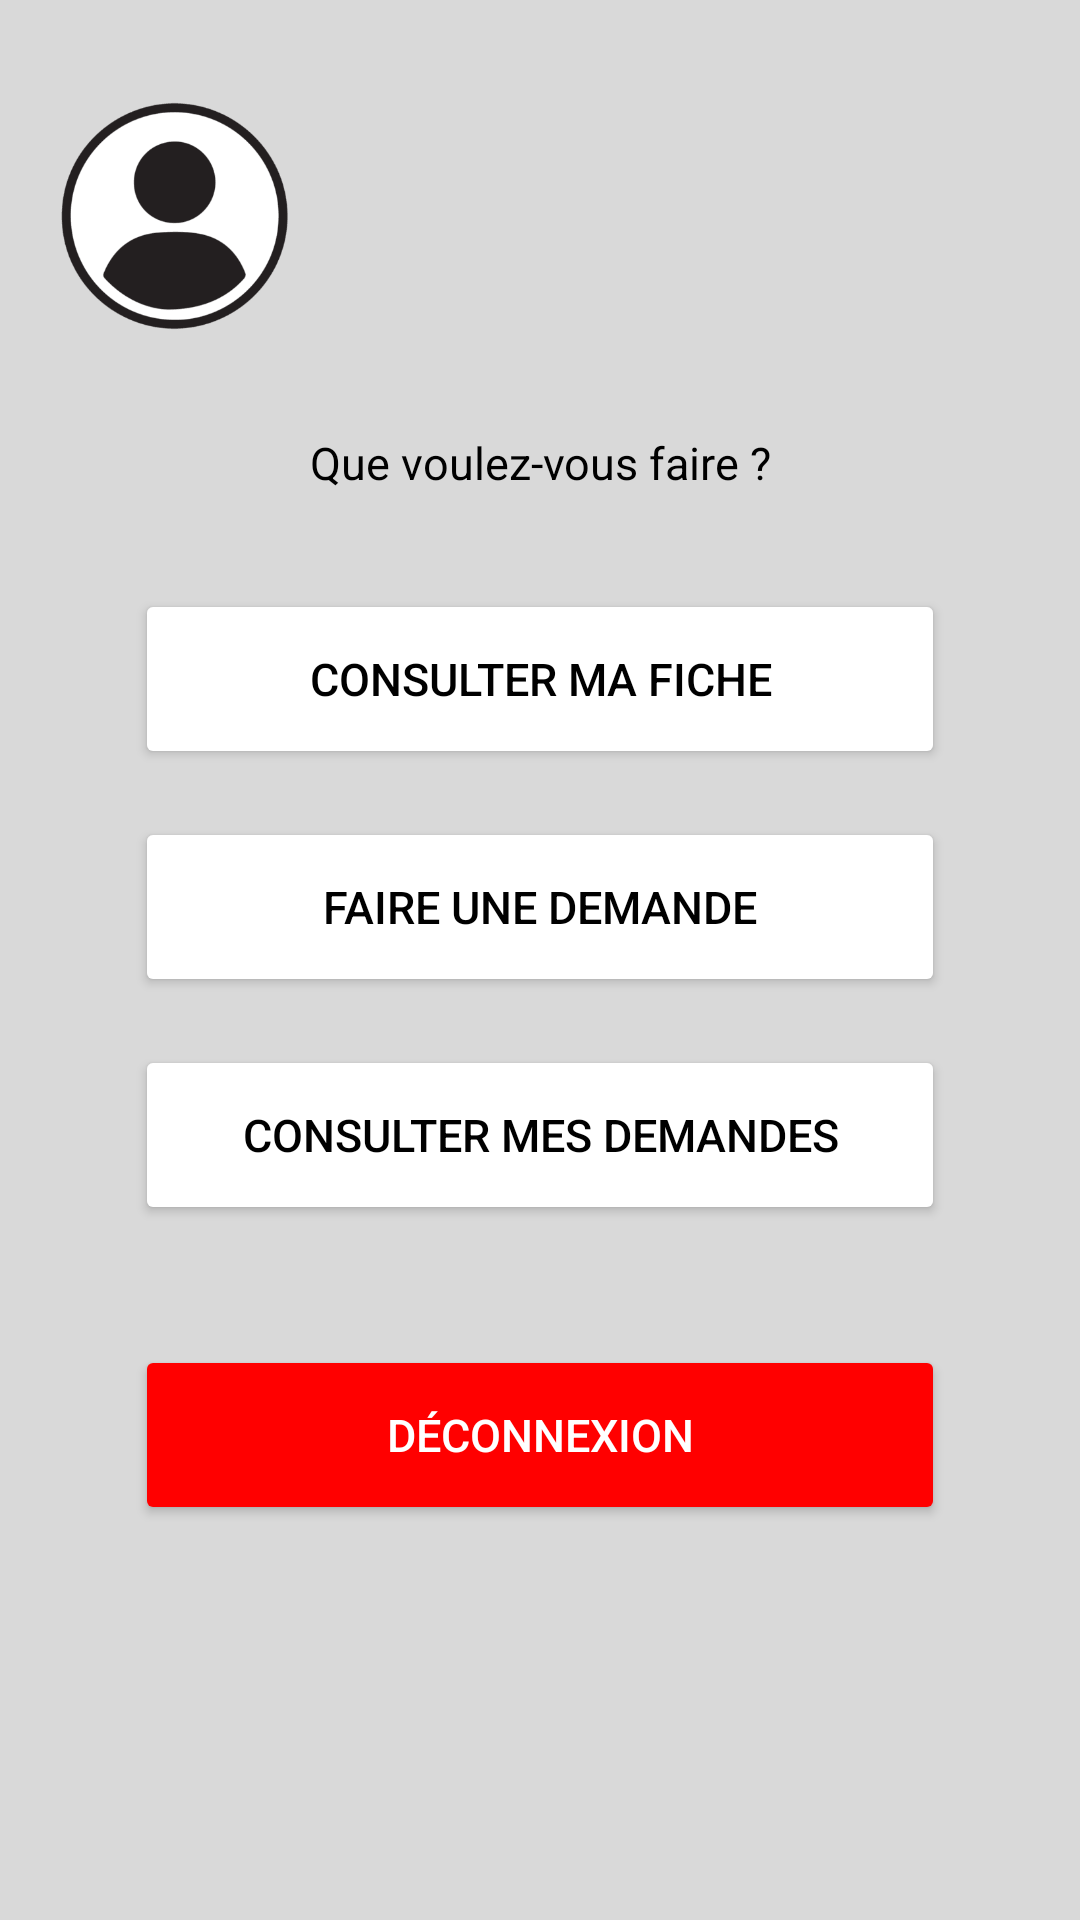

Icon click points for this 1080 x 1920 phone screenshot, format point (x, y):
Image user: point (174, 216)
